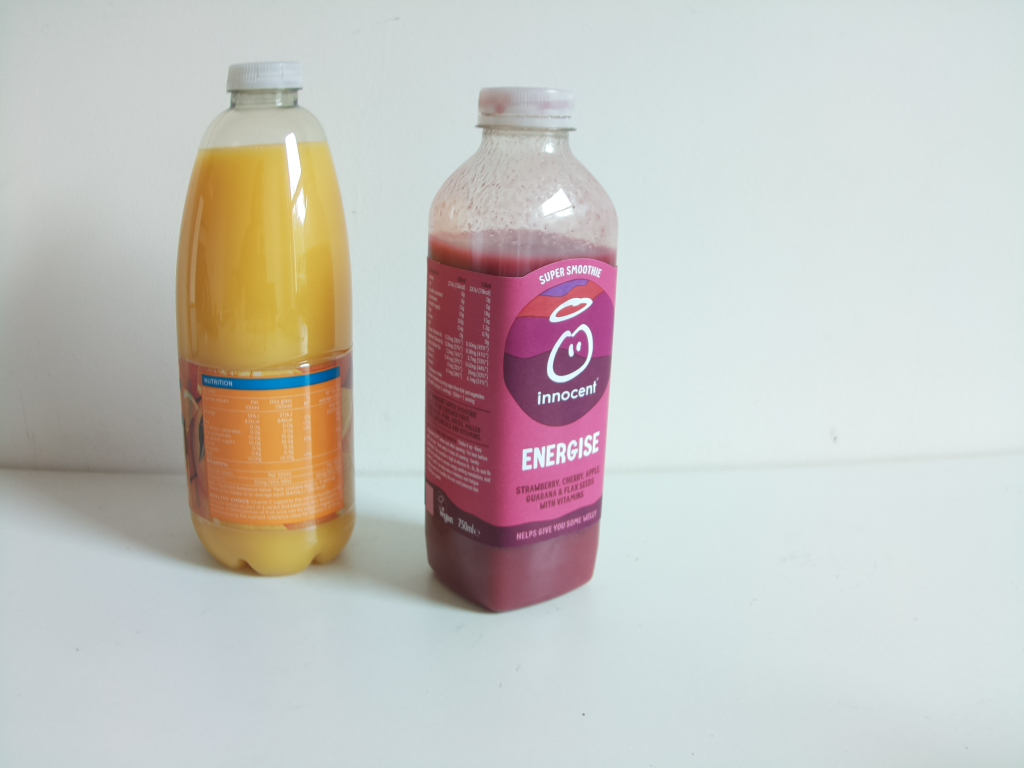juice: (415, 82, 619, 608), (175, 59, 363, 575)
